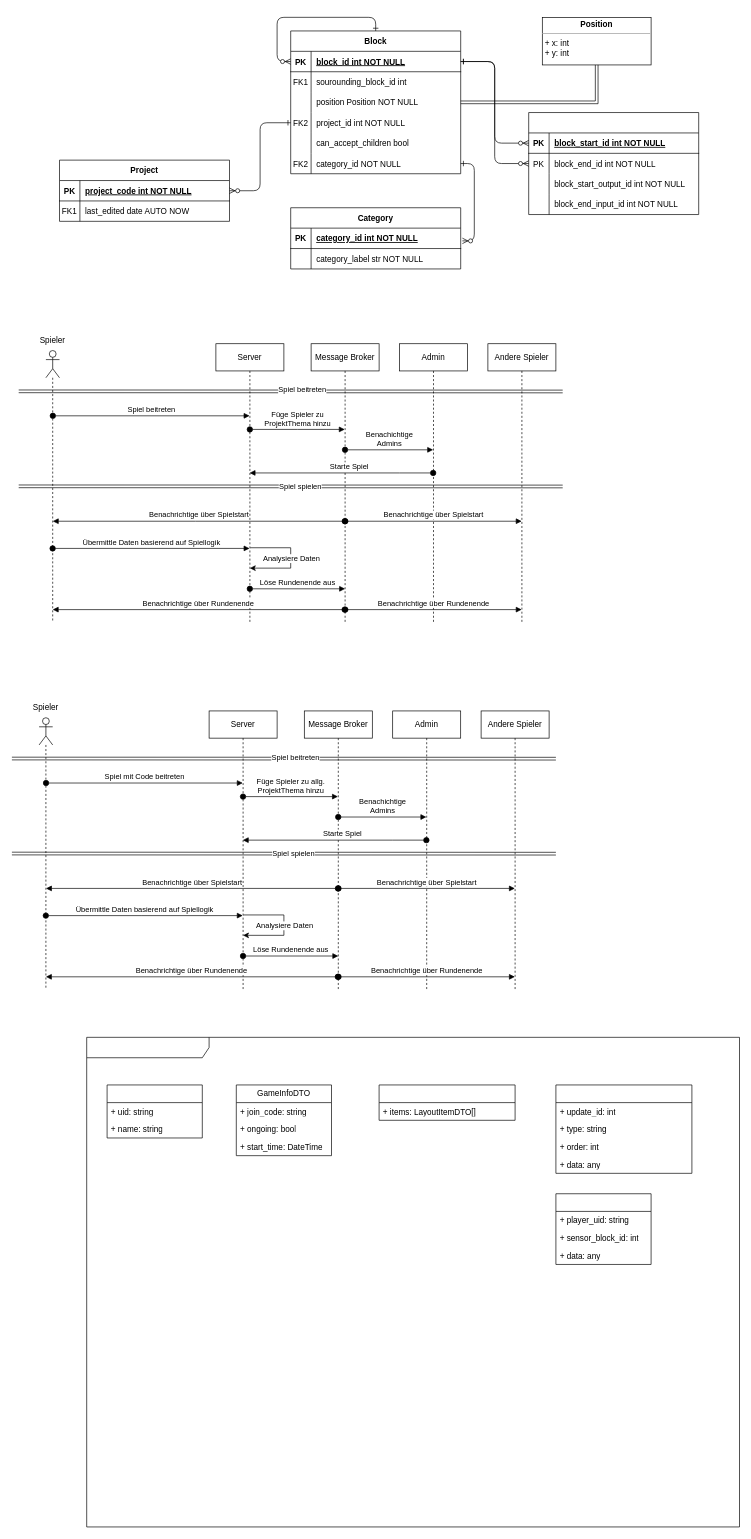
Some shapes in this 751 by 1539 pixel diagram are drawn without their labels. Each missing label, with the box of its shape:
BlockConnection: (528, 112, 699, 215)
GameDataTransferObjects: (86, 1037, 740, 1527)
LayoutInfoDTO: (378, 1084, 515, 1120)
LayoutItemDTO: (555, 1084, 692, 1173)
PlayerDTO: (106, 1084, 202, 1138)
SensorInfoDTO: (555, 1193, 651, 1264)
